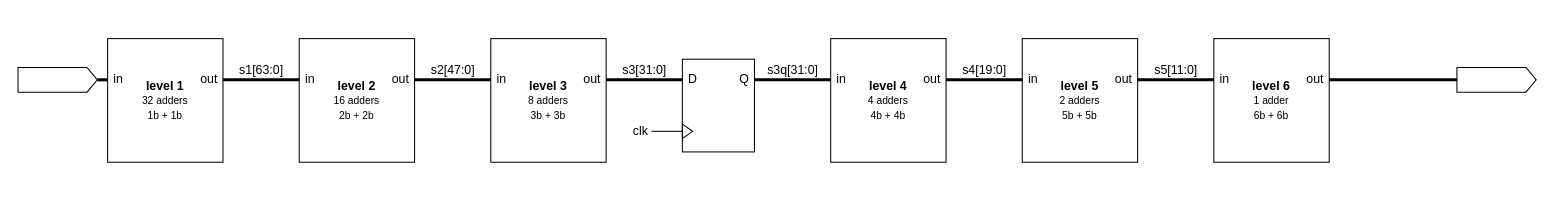
The diagram is 1554 pixels wide and 210 high, and some of its shapes have lost their labels. The centre of each missing label's shape, as x and y in pixels:
"m[63:0]" goes at point 57,79.
"pc[6:0]" goes at point 1496,79.
